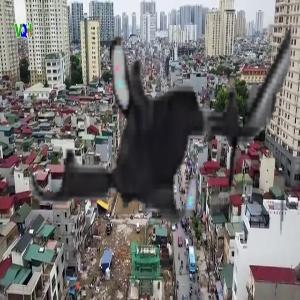drone: (21, 3, 292, 274)
